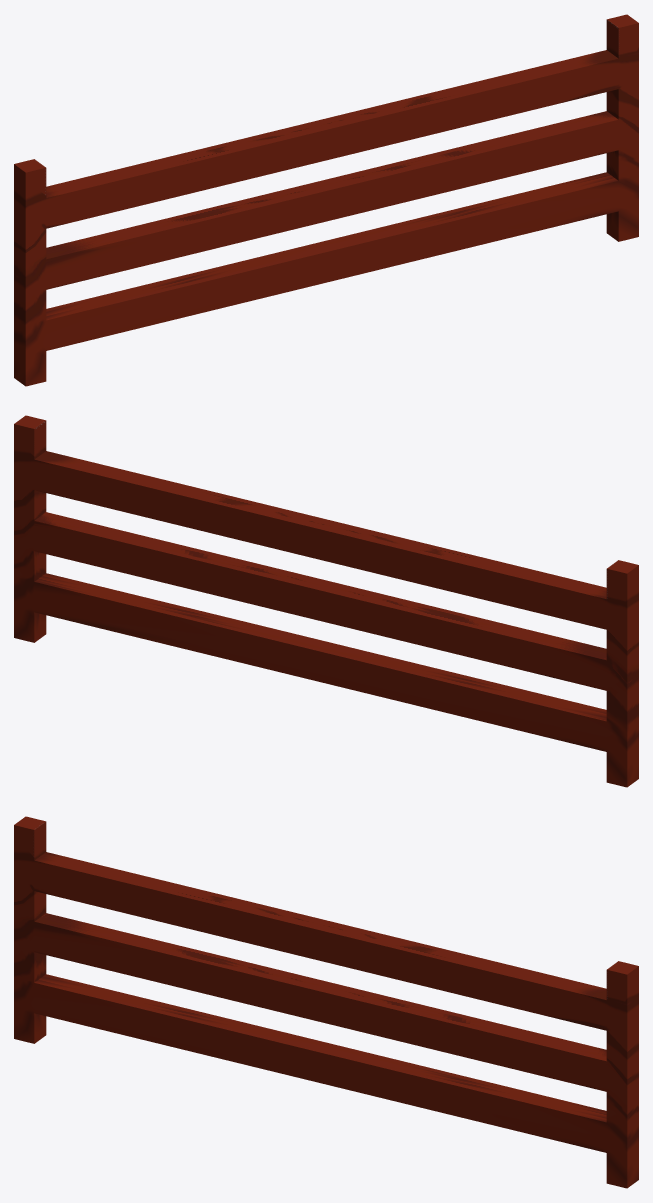
Rendered from Fence(0.9x0.3).fbx.
The picture shows the model from 3 angles, top to bottom: view 1: azimuth 30°, elevation 25°; view 2: azimuth 150°, elevation 25°; view 3: azimuth 330°, elevation 25°; orthographic projection.
Parts seen in each view (by area): view 1: Cube; view 2: Cube; view 3: Cube.
Boxes of the visible parts, <box> form: Cube: <box>14,14,638,386</box>; Cube: <box>14,415,638,787</box>; Cube: <box>14,816,638,1188</box>.
Size of the model in its own units: 90 by 30 by 3.
